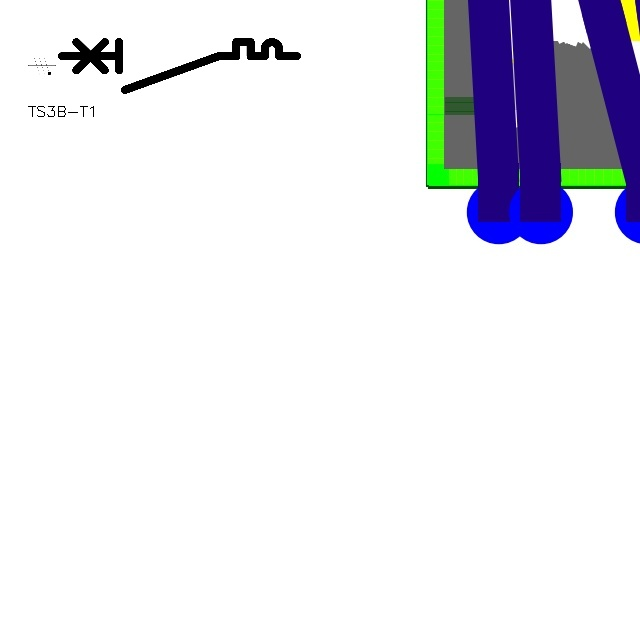interruptor_termomagnetico: (55, 36, 302, 96)
